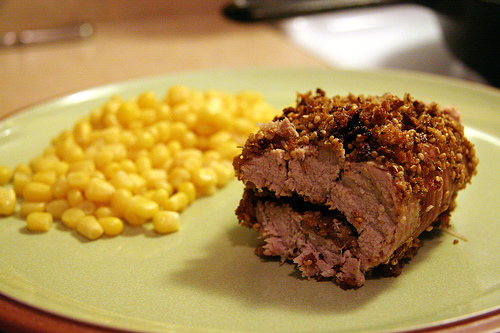corn: (1, 82, 276, 240)
